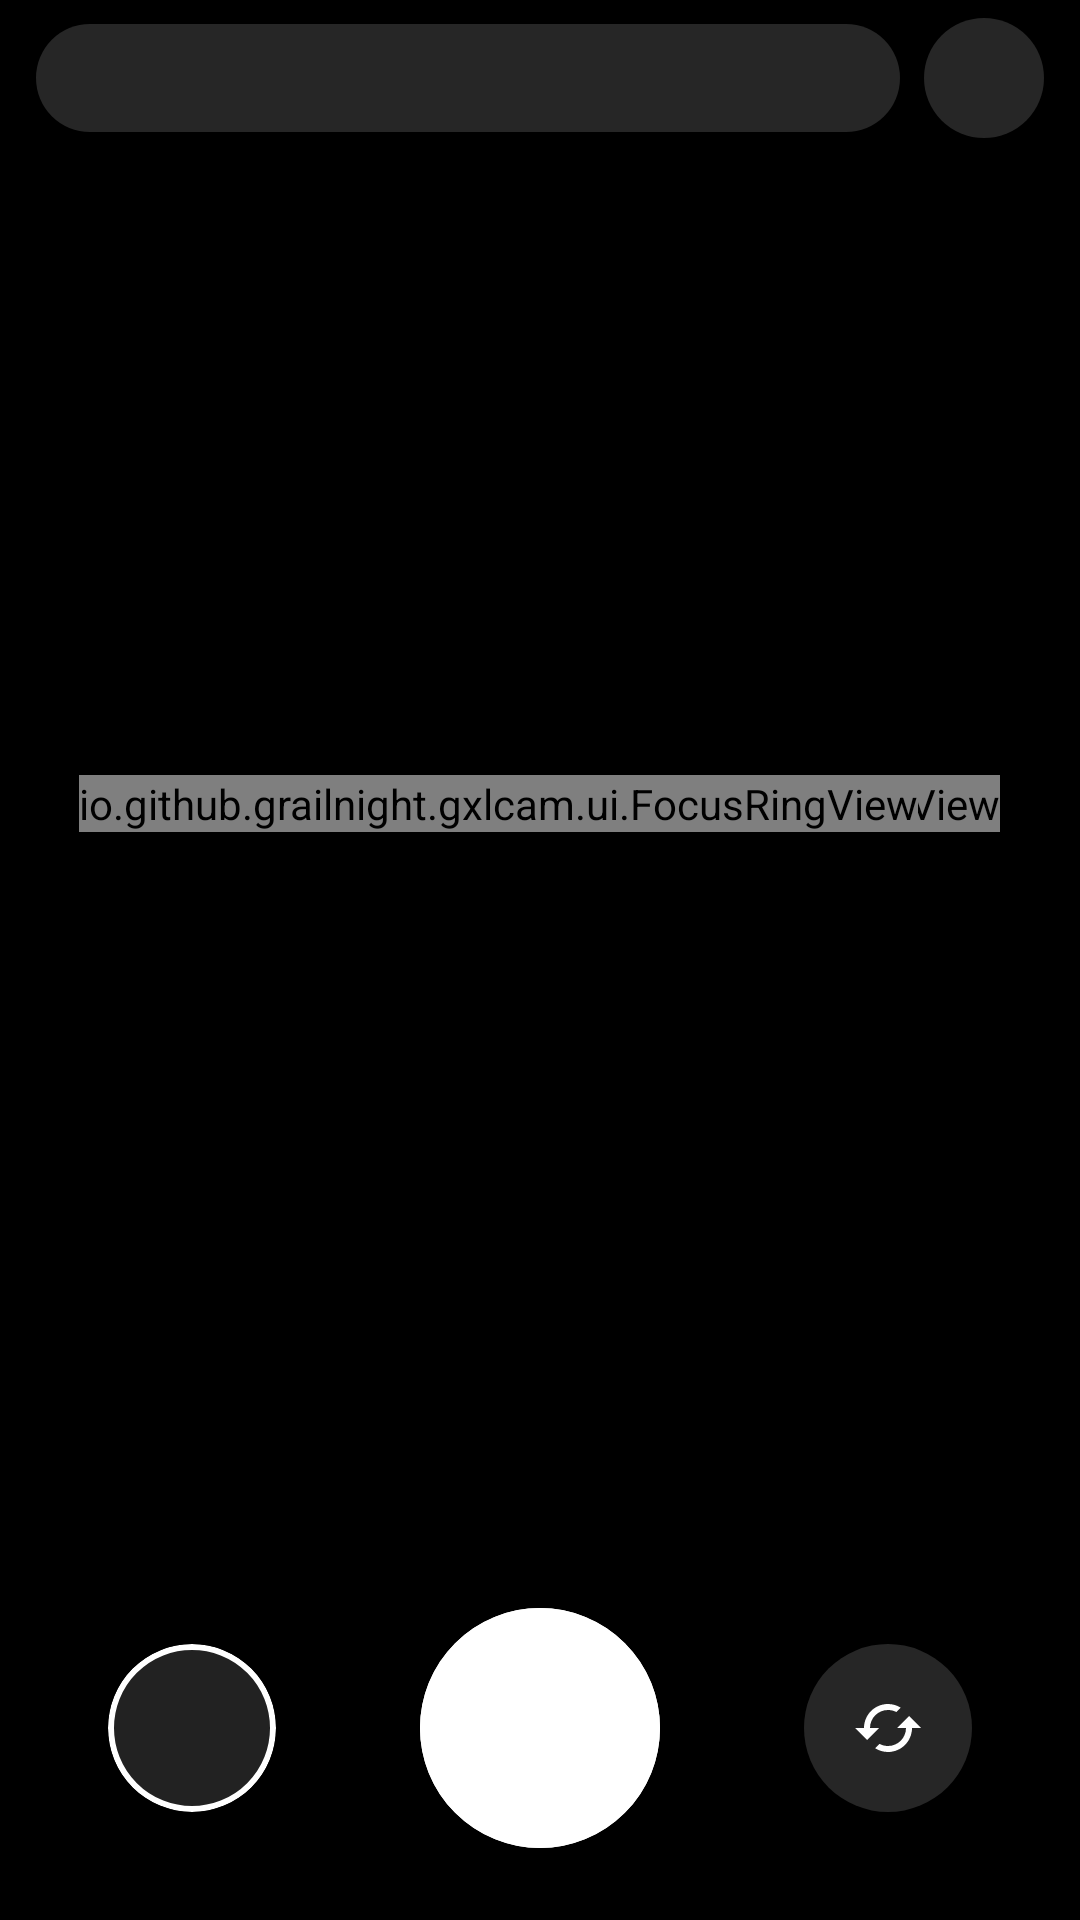

Locate icon controls on the screen. Image size 1080*1920, boxes as (x1, y1, x2, y2).
Сменить камеру: (804, 1644, 972, 1812)
